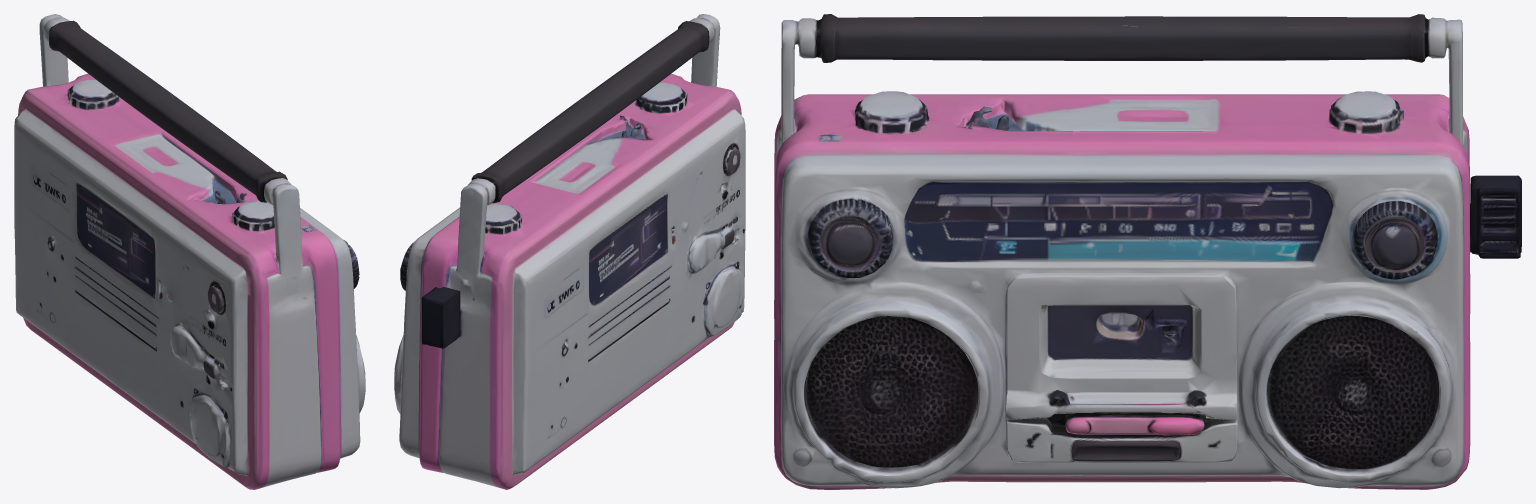
Rendered from au_prop_radio.glb.
3 renders of one model, left to right at view 1: azimuth 30°, elevation 25°; view 2: azimuth 150°, elevation 25°; view 3: azimuth 270°, elevation 25°, orthographic. The views are drawn at different scales.
Parts seen in each view (by area): view 1: tripo_node_8a07ffa5-f8b1-44a7-a147-dee5659a3ea5; view 2: tripo_node_8a07ffa5-f8b1-44a7-a147-dee5659a3ea5; view 3: tripo_node_8a07ffa5-f8b1-44a7-a147-dee5659a3ea5.
Boxes of the visible parts, left/top/right/bottom form: tripo_node_8a07ffa5-f8b1-44a7-a147-dee5659a3ea5: left=14, top=14, right=365, bottom=489; tripo_node_8a07ffa5-f8b1-44a7-a147-dee5659a3ea5: left=394, top=14, right=745, bottom=489; tripo_node_8a07ffa5-f8b1-44a7-a147-dee5659a3ea5: left=774, top=14, right=1521, bottom=489.
Size of the model in its own units: 0.1439 by 0.3 by 0.4511.
1 material, 1 textured.
